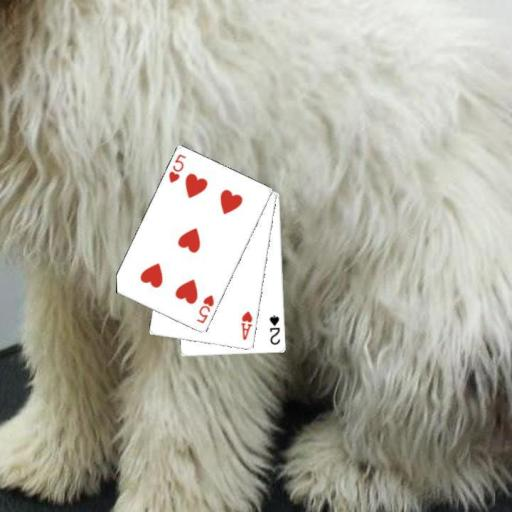2S: (267, 312, 282, 346)
5H: (166, 151, 188, 185), (194, 292, 216, 325)
AH: (237, 308, 254, 341)
